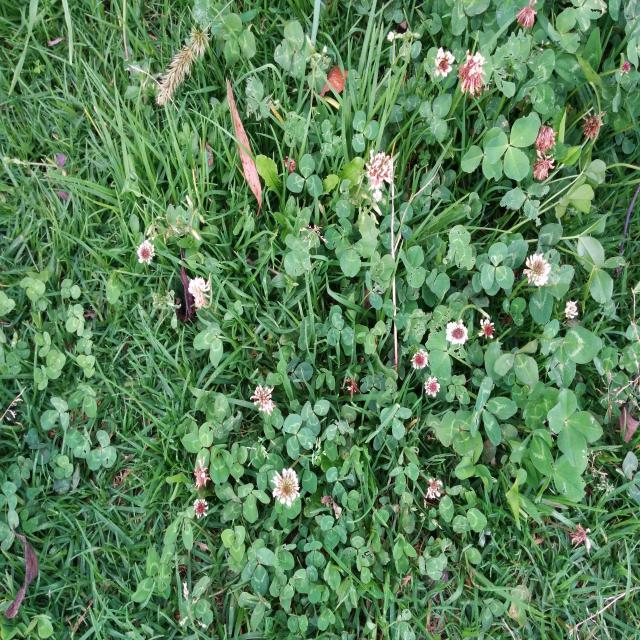Four Leaf Clover: (547, 388, 603, 467)
